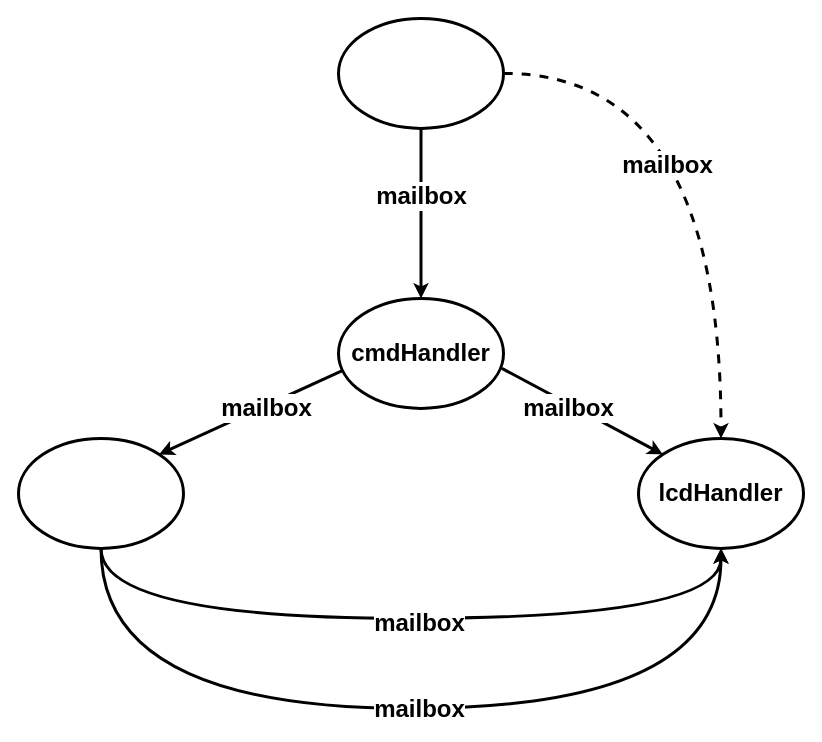
This 822x742 diagram has some shape labels left out. Each missing label, with the centre of its shape:
streaming: point (100, 492)
touchPolling: point (420, 72)
